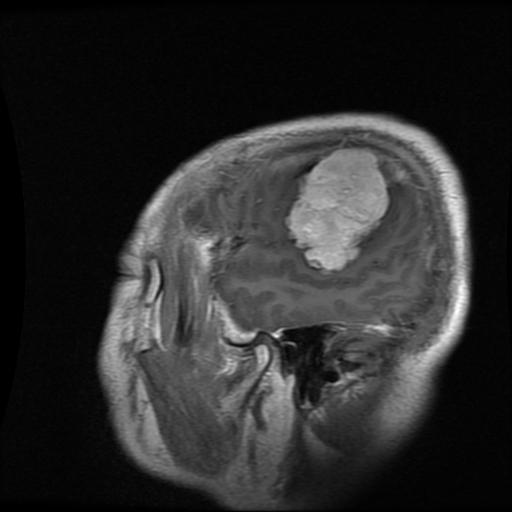Menigiomia_tumour: (287, 148, 387, 270)
